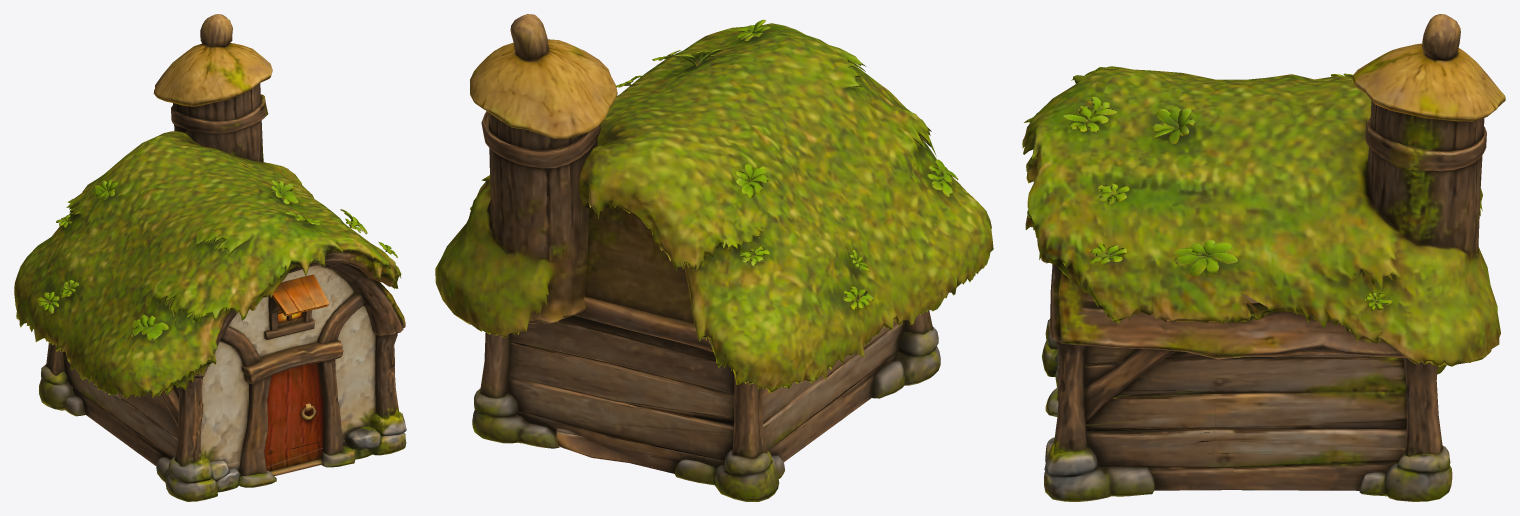
Rendered from farm.glb.
The picture shows the model from 3 angles, left to right: view 1: azimuth 30°, elevation 25°; view 2: azimuth 150°, elevation 25°; view 3: azimuth 270°, elevation 25°; orthographic projection. The views are drawn at different scales.
Visible parts, largest first — view 1: geometry_0; view 2: geometry_0; view 3: geometry_0.
Boxes of the visible parts, x1=… form: geometry_0: x1=14, y1=14, x2=406, y2=501; geometry_0: x1=435, y1=14, x2=993, y2=501; geometry_0: x1=1022, y1=14, x2=1505, y2=501.
Size of the model in its own units: 0.9146 by 0.9531 by 0.916.
1 material, 1 textured.
